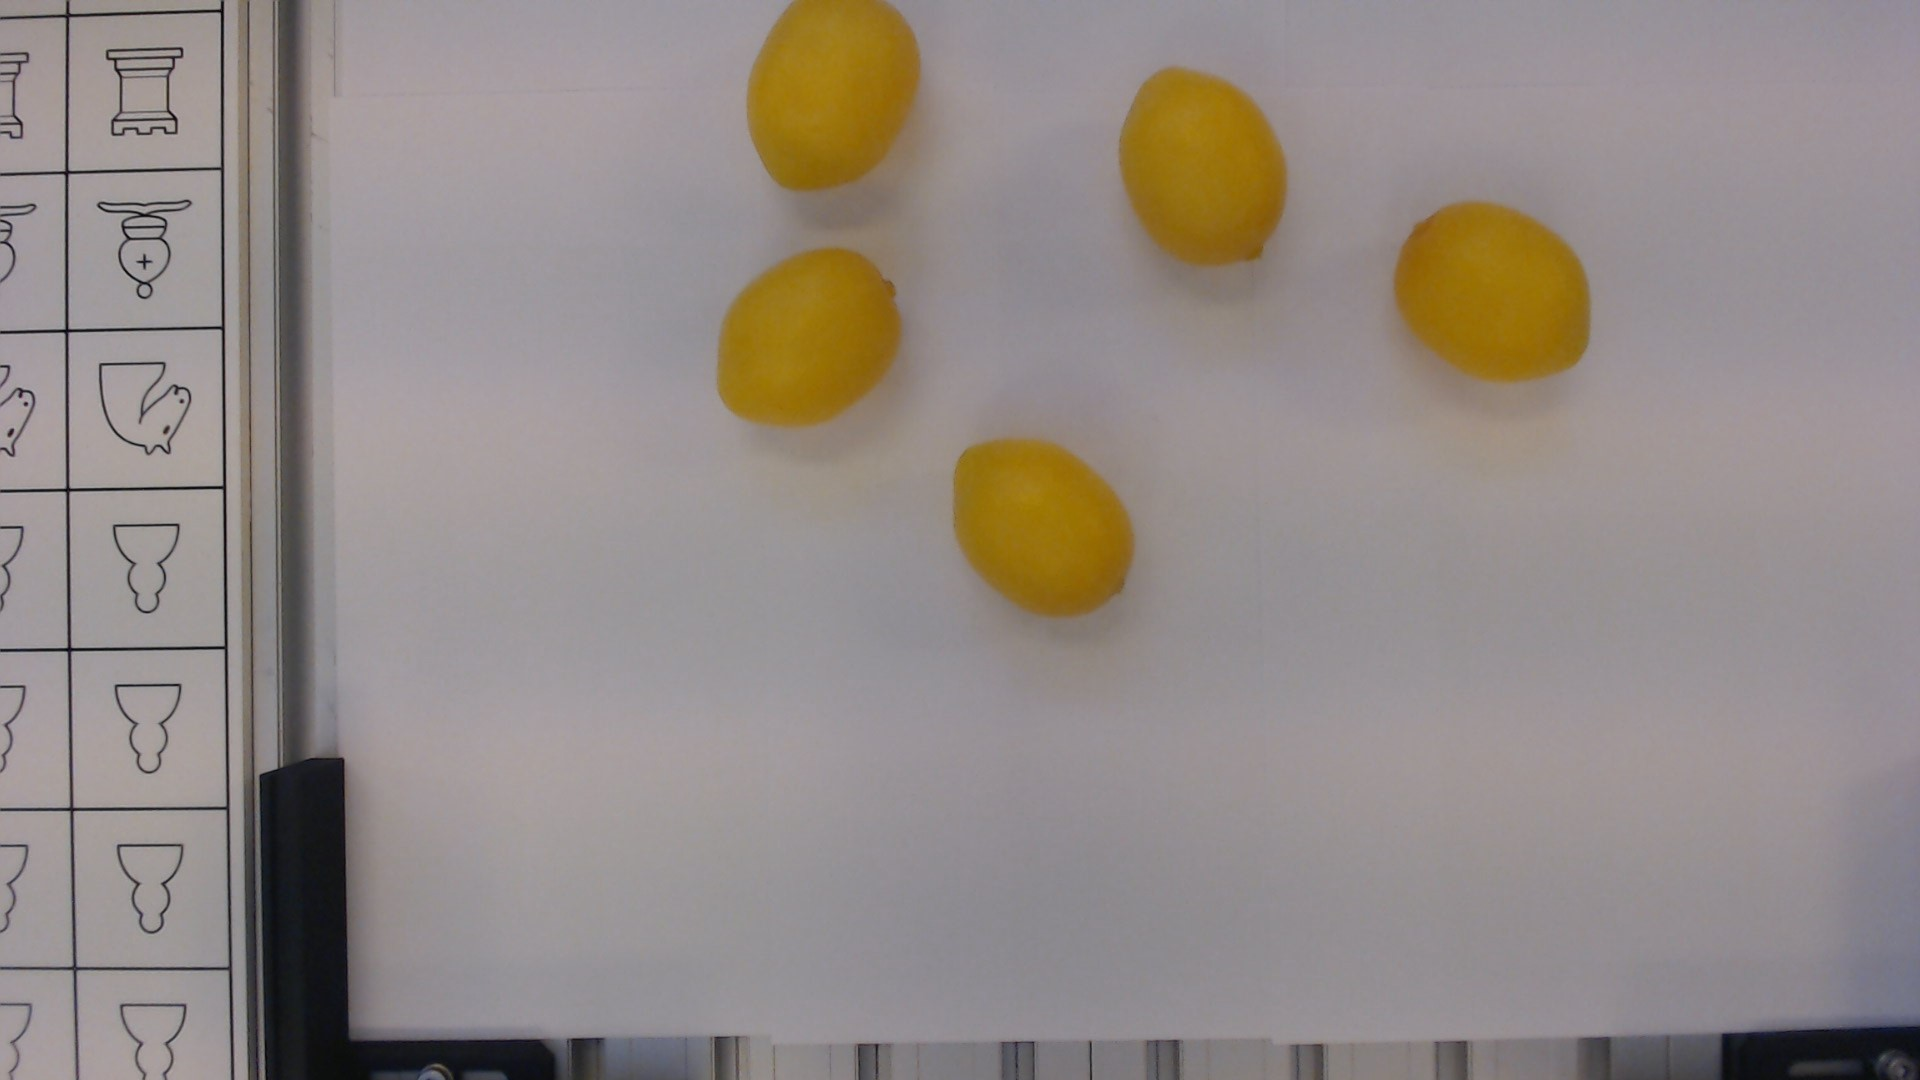Lemon: (1393, 194, 1601, 392), (705, 243, 913, 435), (1109, 65, 1291, 269), (945, 436, 1141, 617)
